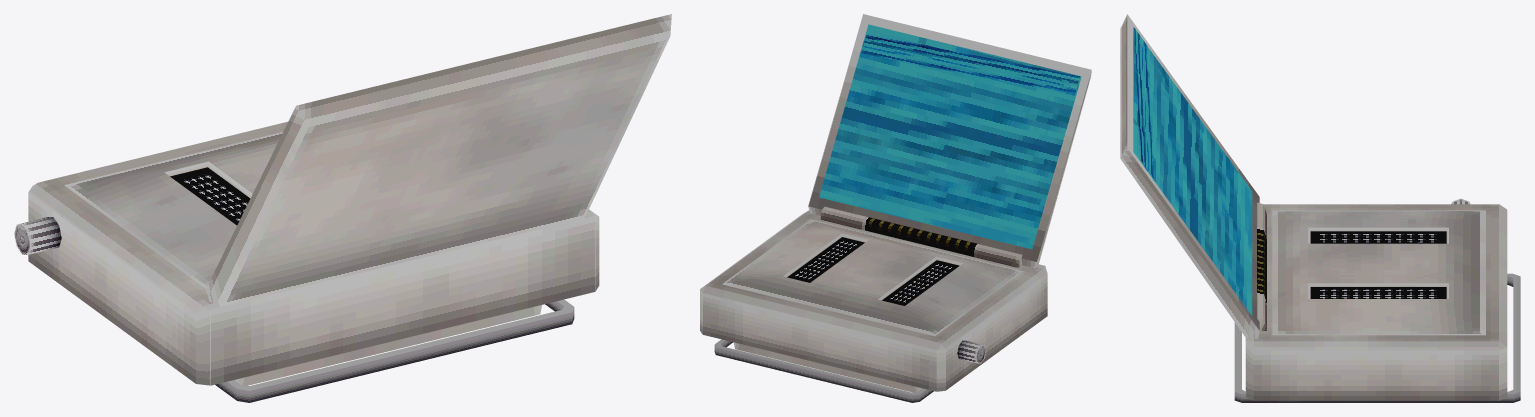
The model's file is ps2_save-icons_pachittechonmagetatsujin8.glb.
The picture shows the model from 3 angles, left to right: view 1: azimuth 30°, elevation 25°; view 2: azimuth 150°, elevation 25°; view 3: azimuth 270°, elevation 25°; orthographic projection. The views are drawn at different scales.
Visible parts, largest first — view 1: view.ico; view 2: view.ico; view 3: view.ico.
Boxes of the visible parts, x1,y1,x2,y2 form: view.ico: (14, 14, 671, 402); view.ico: (700, 14, 1091, 402); view.ico: (1120, 14, 1520, 402).
Size of the model in its own units: 2.28 by 1.8 by 2.47.
1 material, 1 textured.
